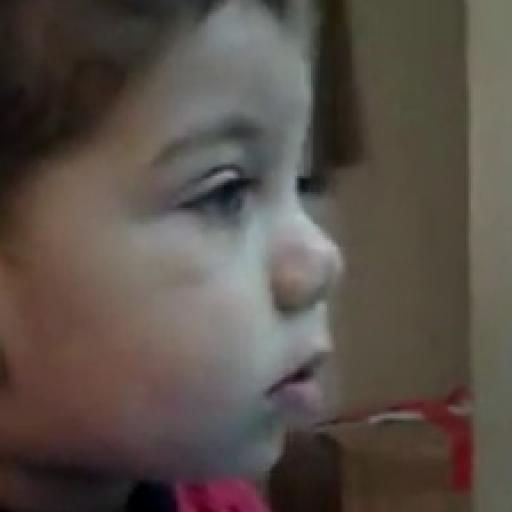Autism: (6, 6, 424, 496)
